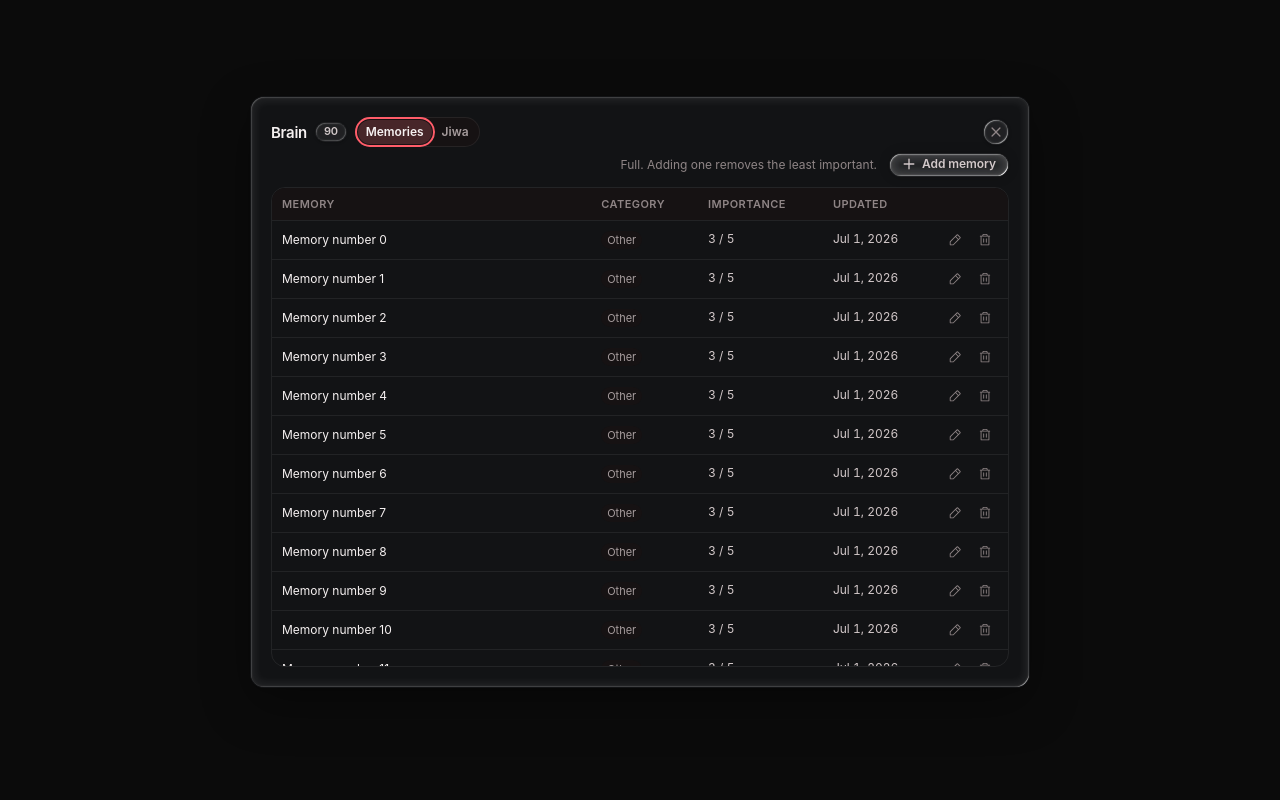
MemoryModal › notes a full tab before Add, and only on that tab
The width and height of the screenshot is (1280, 800).
Check: the text "Full. Adding one removes the least important." is shown, box [621, 158, 877, 172]
Check: the button "Add memory" is shown, box [889, 153, 1009, 177]
Click the tab "Jiwa" at (455, 132), box [434, 120, 477, 144]
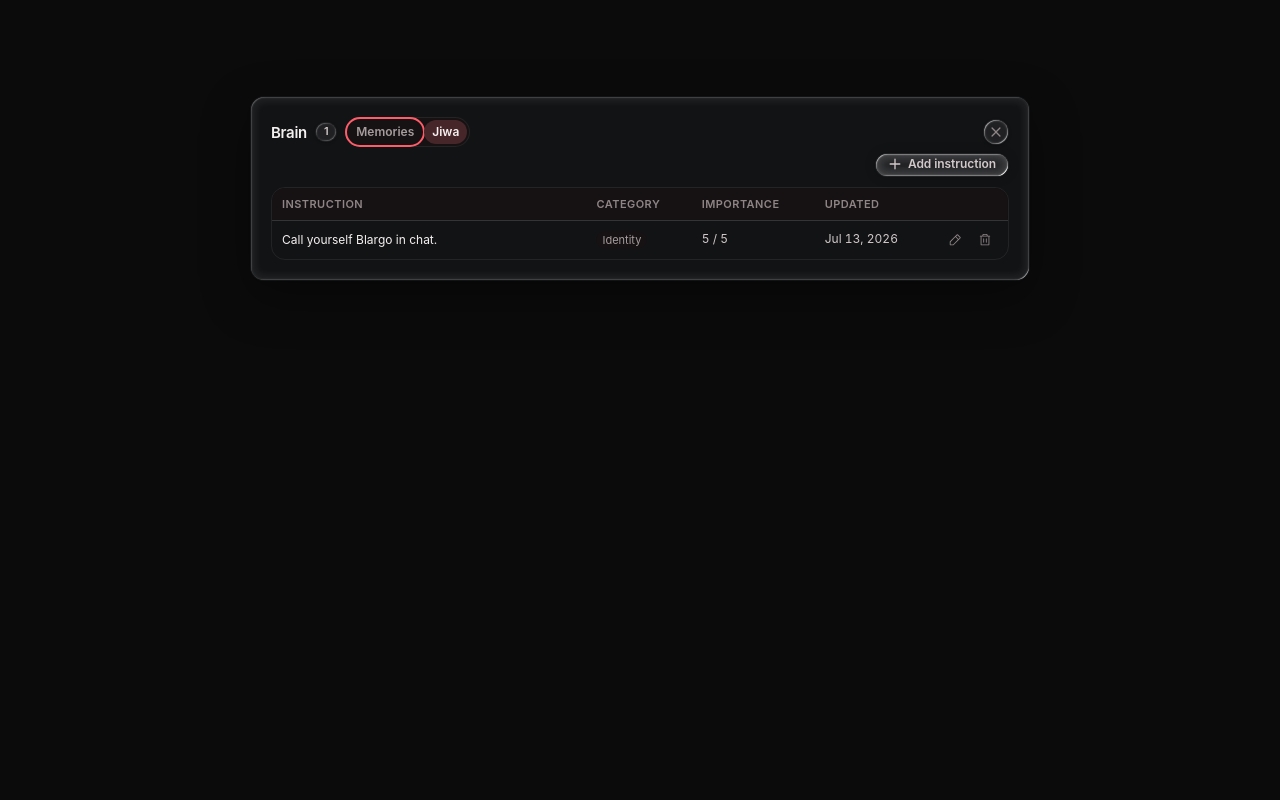
Check: the text "Call yourself Blargo in chat." is shown, box [272, 220, 586, 259]
Check: the text "Full. Adding one removes the least important." is gone
